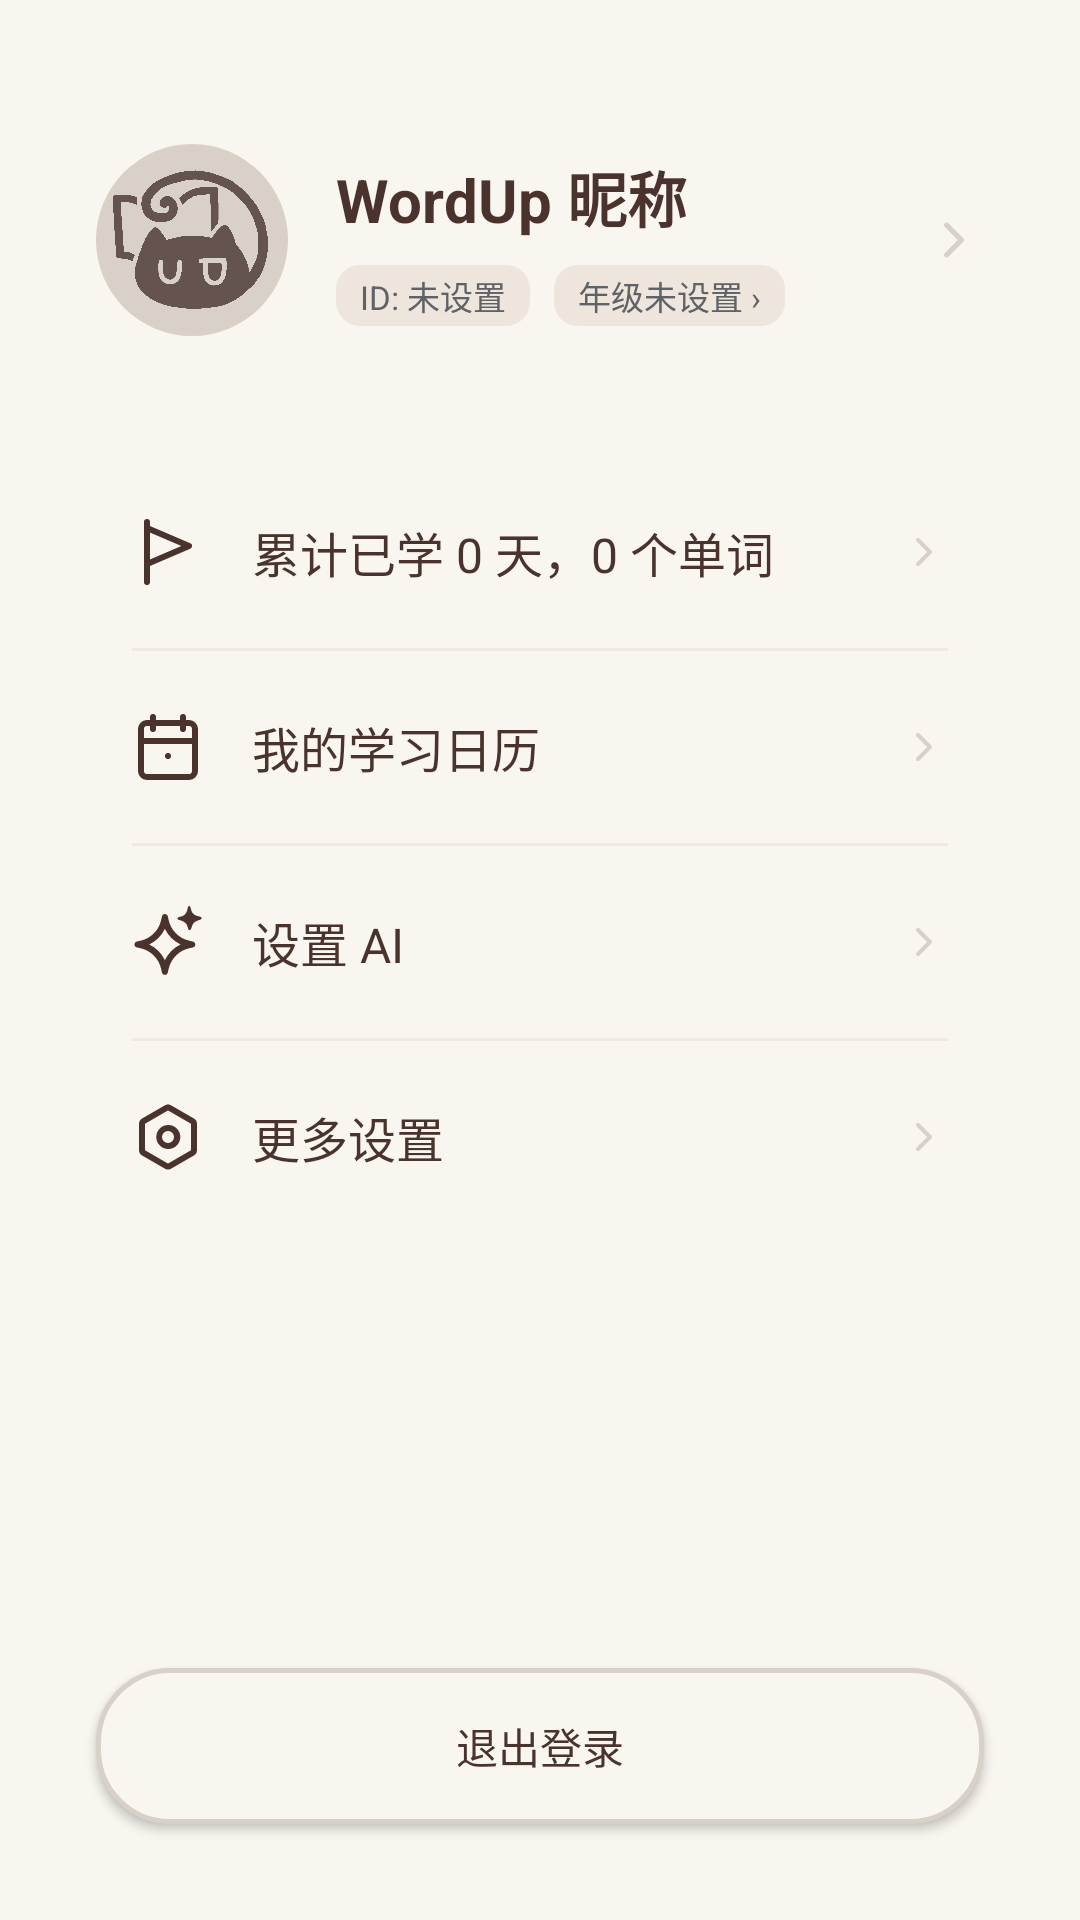

Where icons sit on this 1080px×1920px app screen, as (x1, y1, x2, y2):
arrow right: (944, 223, 964, 257), (916, 538, 932, 566), (916, 733, 932, 761), (916, 928, 932, 956), (916, 1123, 932, 1151)
profile ai: (134, 906, 202, 975)
profile calendar: (138, 714, 198, 780)
profile settings: (139, 1104, 197, 1170)
